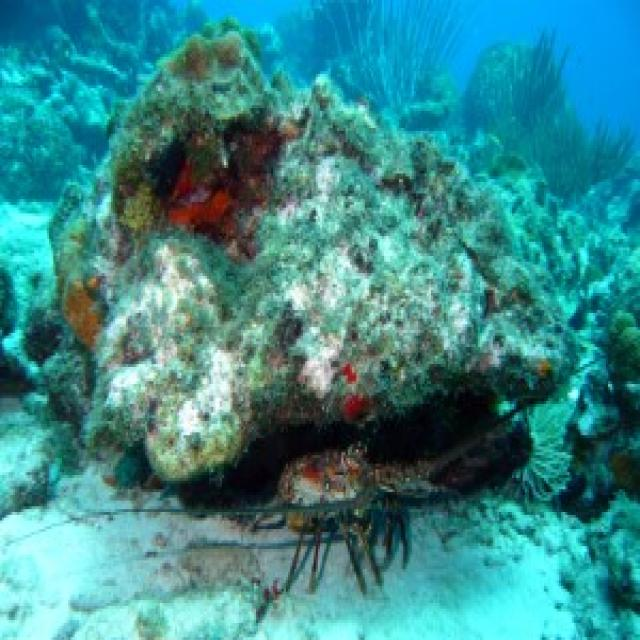lobsters: (211, 350, 486, 640)
